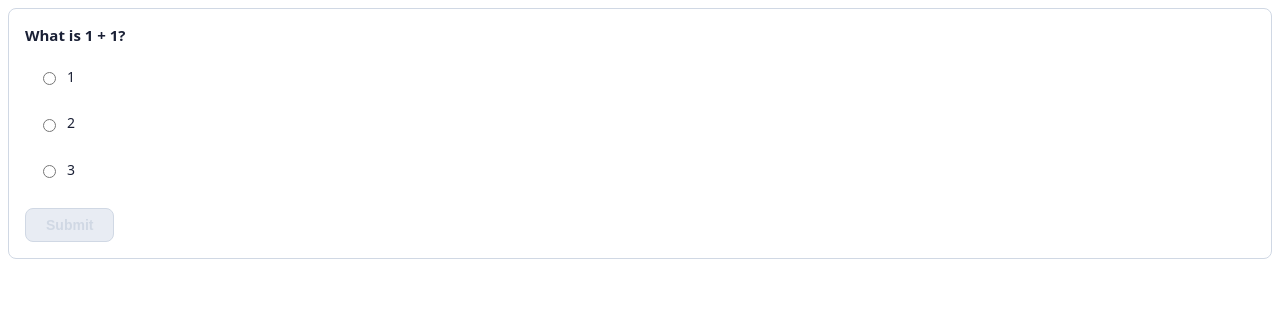
Test: Quiz › submitting shows correct feedback (green)
Click the radio button labelled "2".
click(50, 125)  # box [43,119,56,132]
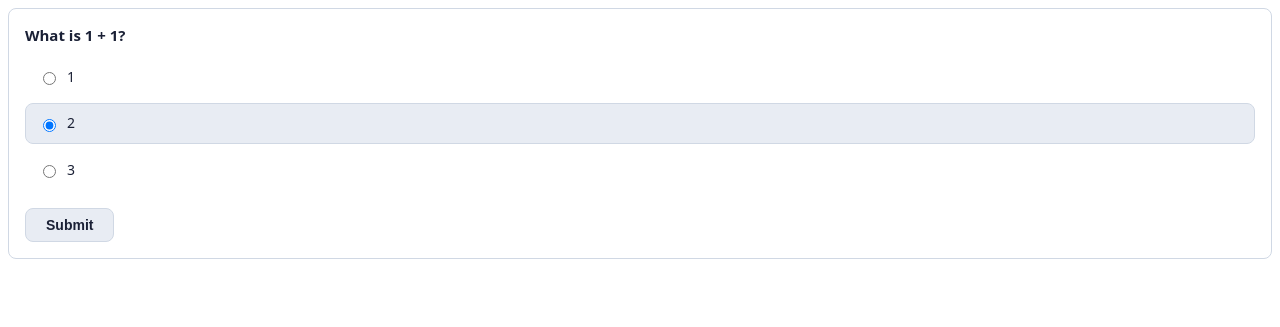
Click the button "Submit".
click(70, 225)  # box [25,208,114,242]
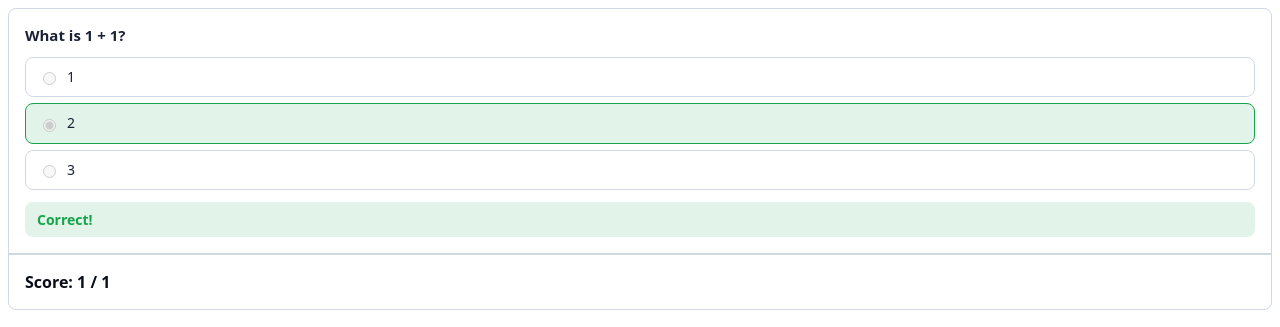
Expected: the text "Correct!" is shown, [25,202,1255,237]
